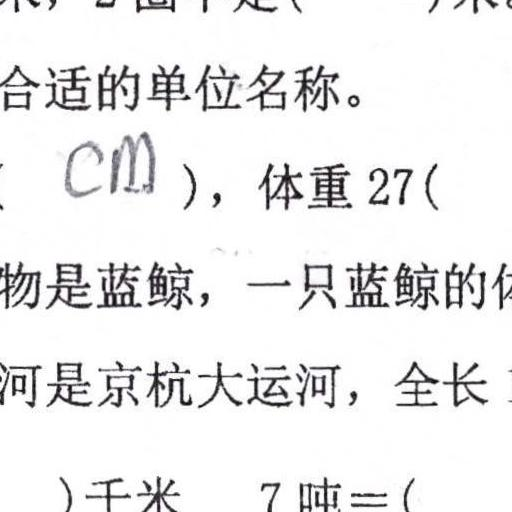ans: (58, 127, 158, 200)
